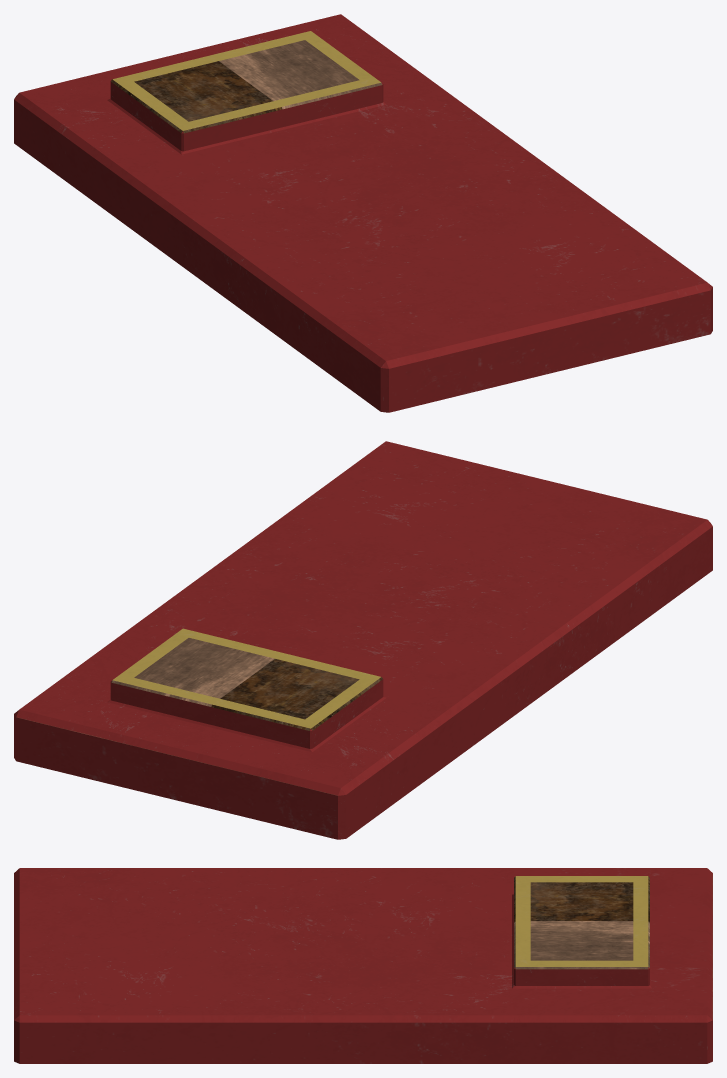
File: Grave_1.fbx
The picture shows the model from 3 angles, top to bottom: view 1: azimuth 30°, elevation 25°; view 2: azimuth 150°, elevation 25°; view 3: azimuth 270°, elevation 25°; orthographic projection. The views are drawn at different scales.
Parts seen in each view (by area): view 1: Grave_1; view 2: Grave_1; view 3: Grave_1.
Boxes of the visible parts, bbox=[...] form: Grave_1: bbox=[14, 14, 712, 412]; Grave_1: bbox=[14, 441, 712, 839]; Grave_1: bbox=[14, 868, 712, 1063].
Size of the model in its own units: 124 by 25.37 by 242.
